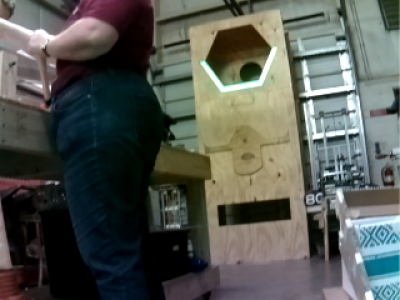target: (200, 47, 278, 93)
